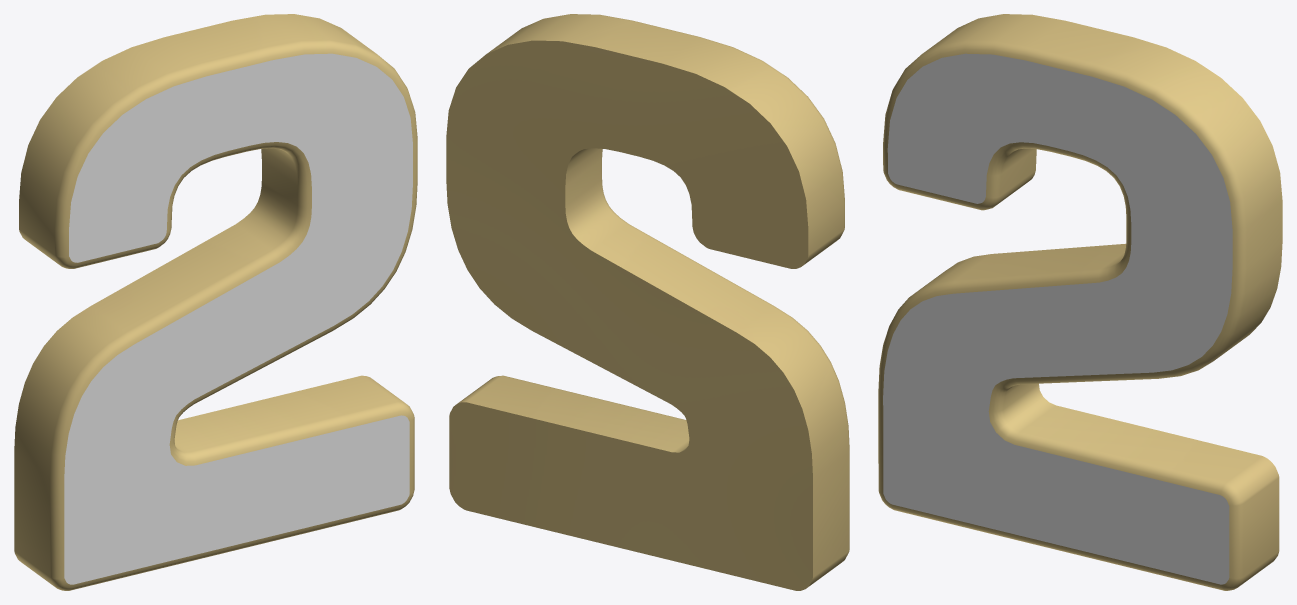
The model's file is LettersLightUp02_2.FBX.
3 views of the same model, side by side, from view 1: azimuth 30°, elevation 25°; view 2: azimuth 150°, elevation 25°; view 3: azimuth 330°, elevation 25° (orthographic).
Visible parts, largest first — view 1: LettersLightUp02_2; view 2: LettersLightUp02_2; view 3: LettersLightUp02_2.
Boxes of the visible parts, left/top/right/bottom form: LettersLightUp02_2: left=14, top=14, right=417, bottom=590; LettersLightUp02_2: left=446, top=14, right=849, bottom=590; LettersLightUp02_2: left=878, top=14, right=1282, bottom=590.
Size of what is drawn, in the model's own units: 0.4716 by 0.6078 by 0.0912.
